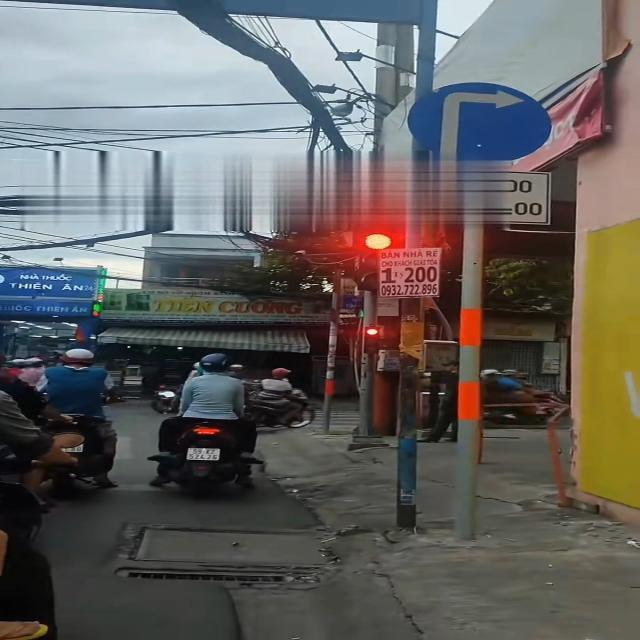301d-cac-xe-chi-duoc-re-phai-2: (406, 84, 560, 164)
